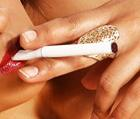smoke: (9, 43, 118, 61)
